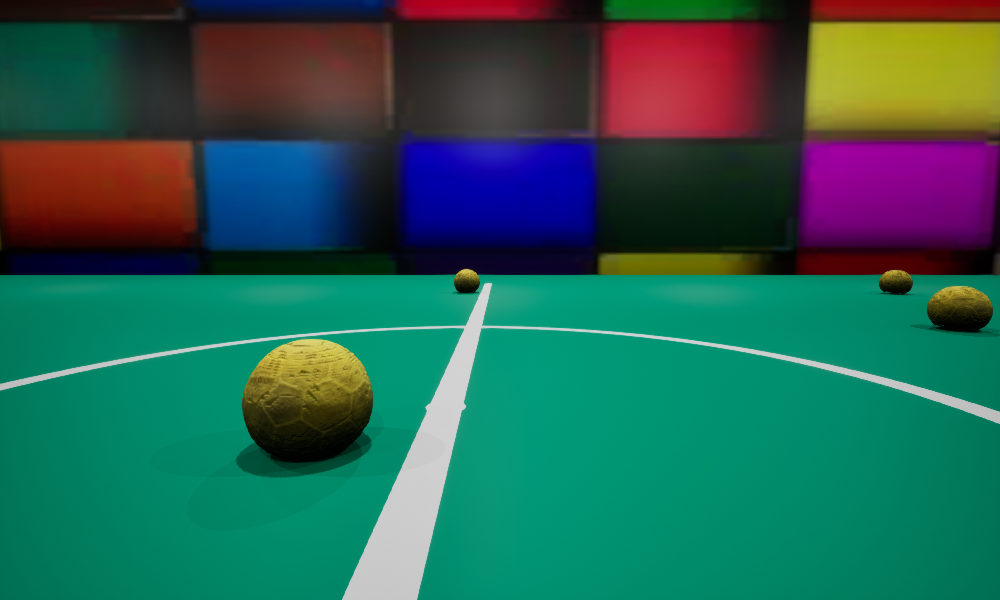b: (242, 339, 372, 460), (927, 286, 992, 330), (879, 270, 912, 293), (454, 269, 479, 292)
